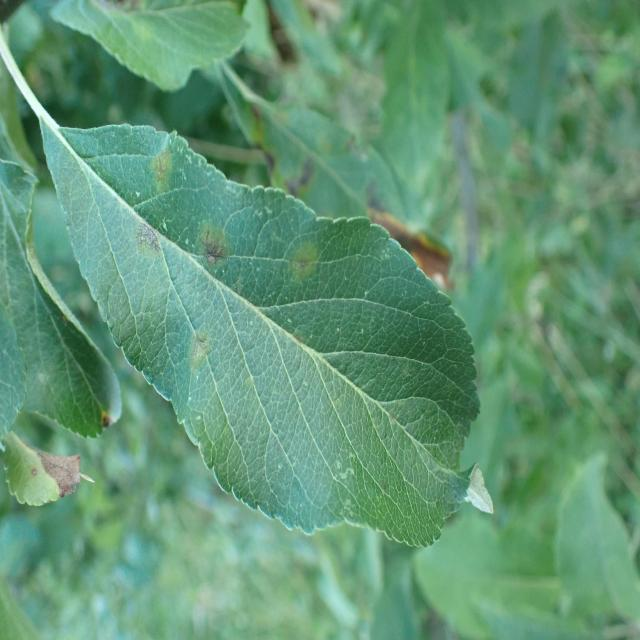scab: (76, 103, 483, 509)
